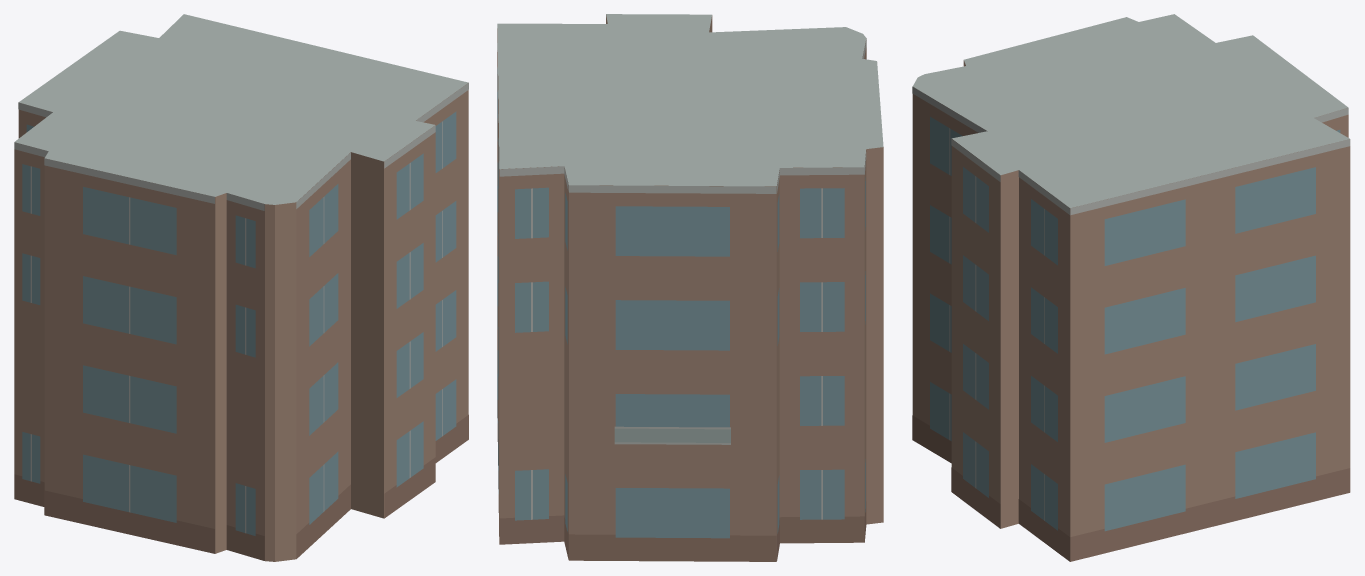
File: survey-upis-32536434.glb
3 views of the same model, side by side, from view 1: azimuth 30°, elevation 25°; view 2: azimuth 150°, elevation 25°; view 3: azimuth 270°, elevation 25° (orthographic). The views are drawn at different scales.
Parts seen in each view (by area): view 1: survey-upis-32536434.tmp; view 2: survey-upis-32536434.tmp; view 3: survey-upis-32536434.tmp.
Boxes of the visible parts, x1,y1,x2,y2 form: survey-upis-32536434.tmp: (14, 14, 468, 561); survey-upis-32536434.tmp: (497, 14, 883, 561); survey-upis-32536434.tmp: (912, 14, 1350, 561).
Bounding box in the file's own units: 14.38 × 12.2 × 13.7.
